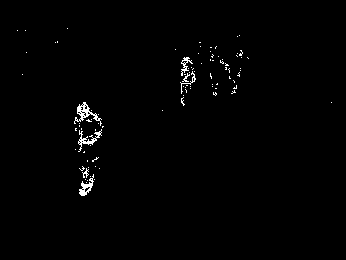person: (73, 103, 105, 197), (180, 57, 196, 105)
